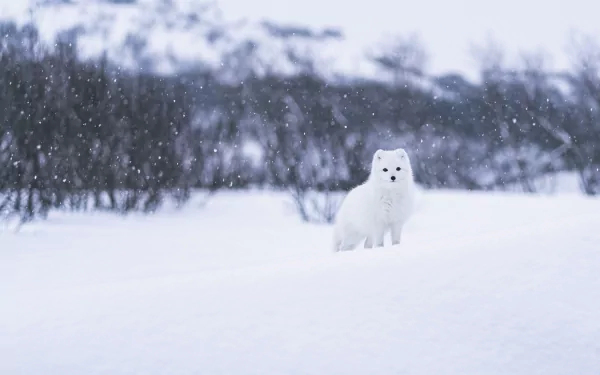arcticfox: (370, 158, 408, 196)
